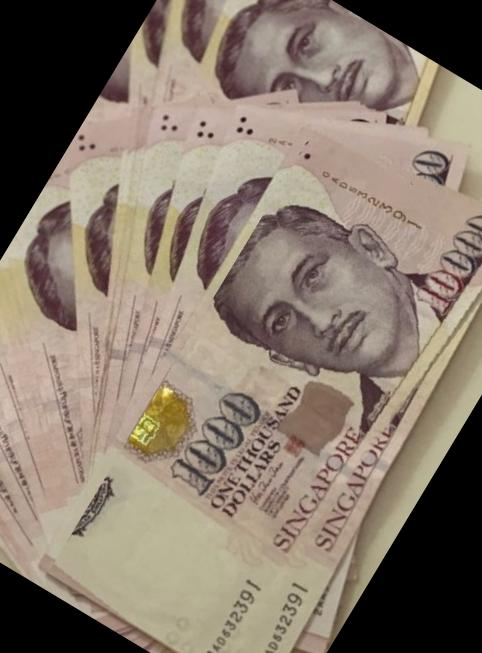1000SingaporeDollar: (47, 117, 482, 653)
